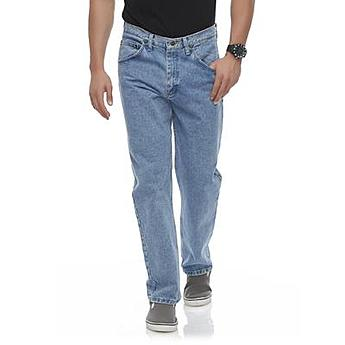jeans: (109, 21, 250, 295)
